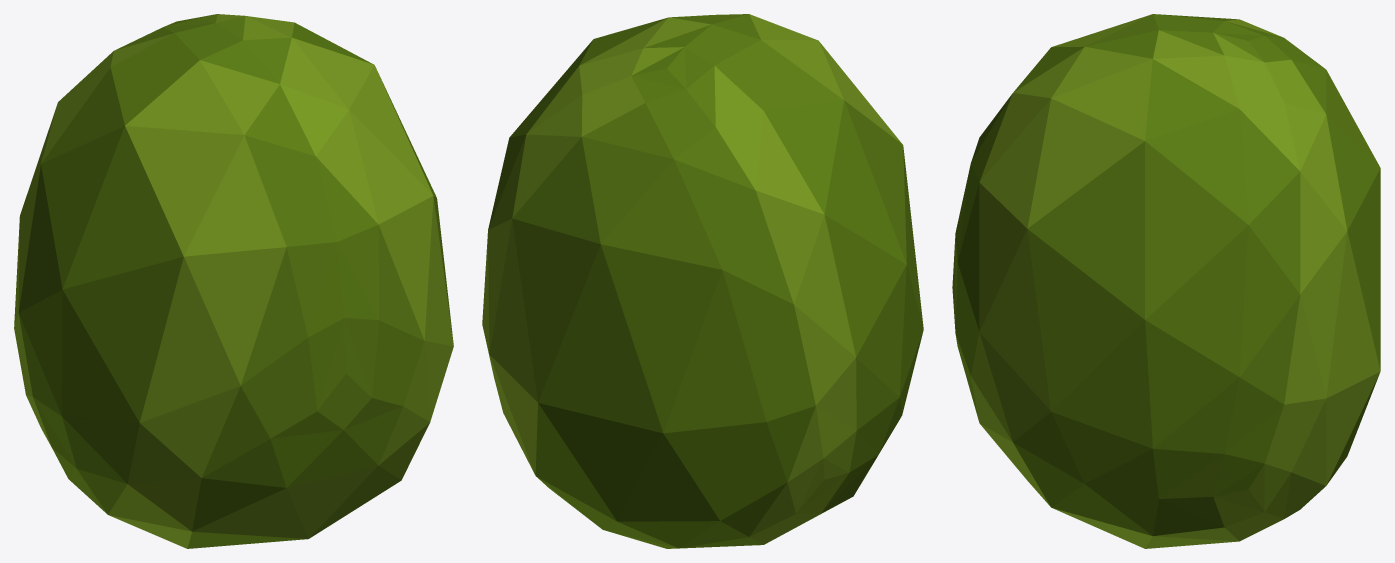
The model's file is Melon.fbx.
The picture shows the model from 3 angles, left to right: view 1: azimuth 30°, elevation 25°; view 2: azimuth 150°, elevation 25°; view 3: azimuth 270°, elevation 25°; orthographic projection.
Visible parts, largest first — view 1: Melon; view 2: Melon; view 3: Melon.
Part boxes in pixels (x1=…): Melon: x1=14, y1=14, x2=453, y2=548; Melon: x1=482, y1=14, x2=923, y2=548; Melon: x1=952, y1=14, x2=1380, y2=548.
Bounding box in the file's own units: 38.93 × 48.64 × 38.54.
